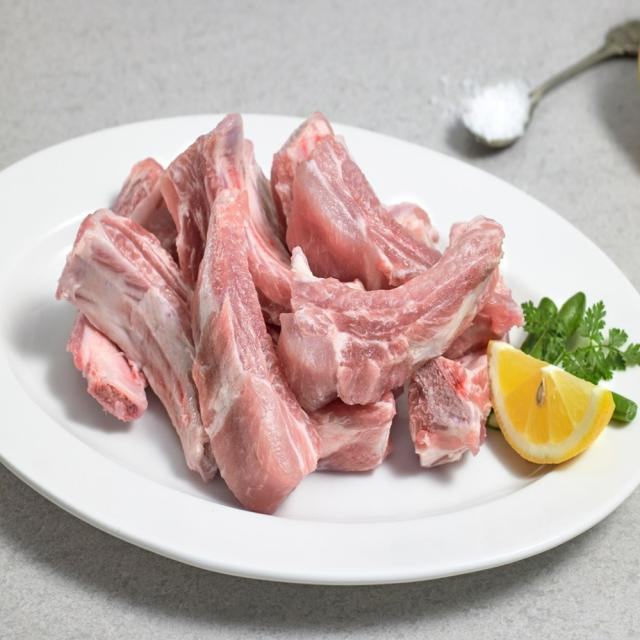pork: (42, 93, 537, 528)
